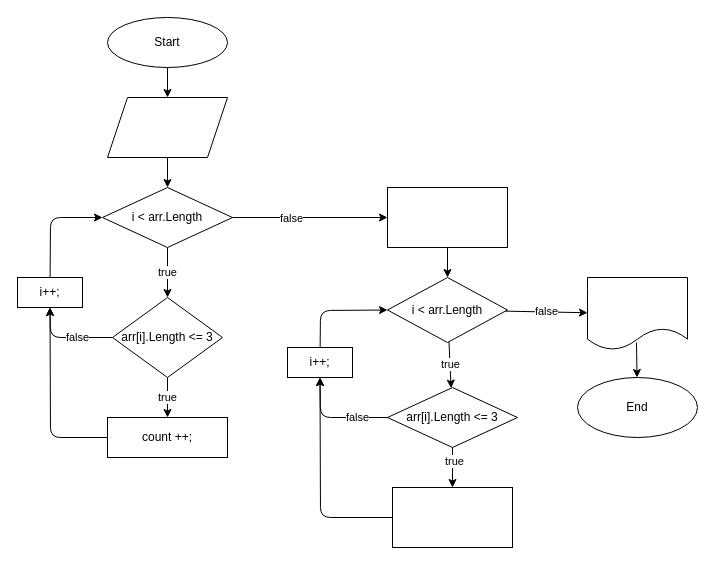
Some shapes in this 715 by 565 pixel diagram are drawn without their labels. Here are the shapes that lost their labels. From the top down, the box of each, then its label:
(106, 96, 228, 158): string[] arr; int count = 0; int i = 0;
(386, 186, 508, 248): string[] arr2; count = 0; i = 0;
(586, 276, 688, 350): arr2
(392, 486, 512, 548): arr2[count] = arr[i]; count++;
